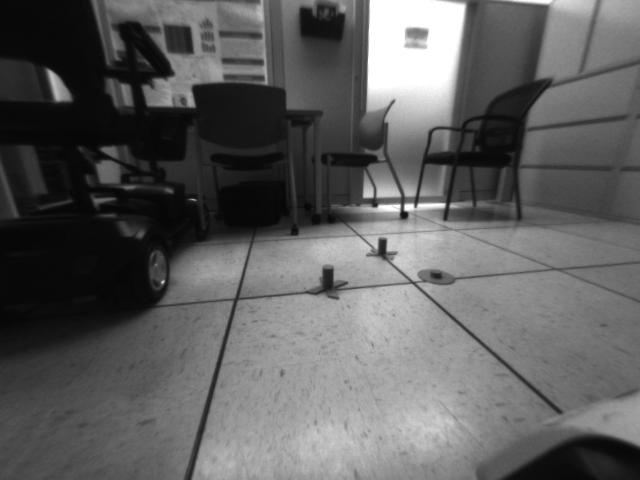X: (308, 265, 348, 298), (368, 235, 397, 260)
